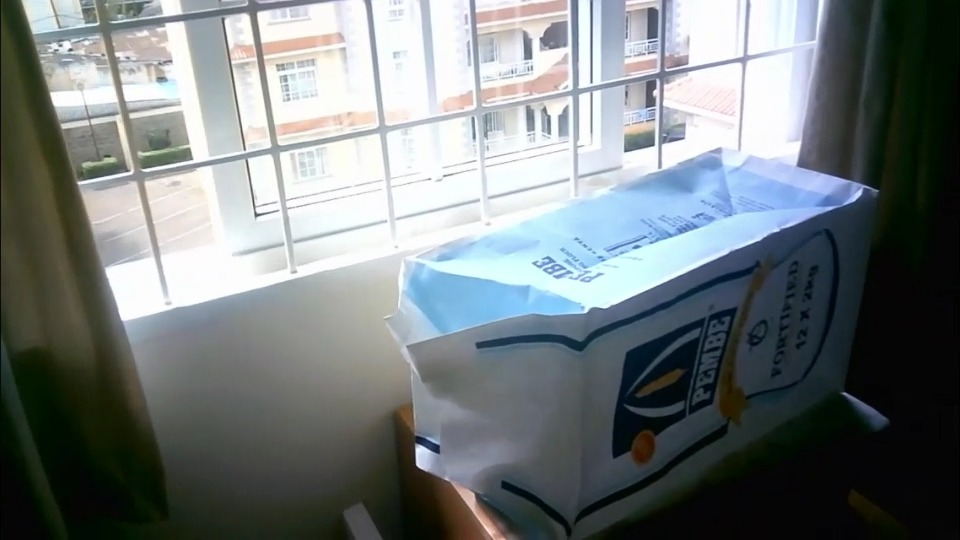wheat_flour_blue_label: (396, 151, 876, 536)
